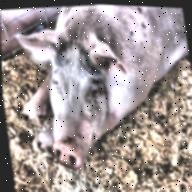boar: (8, 0, 192, 180)
